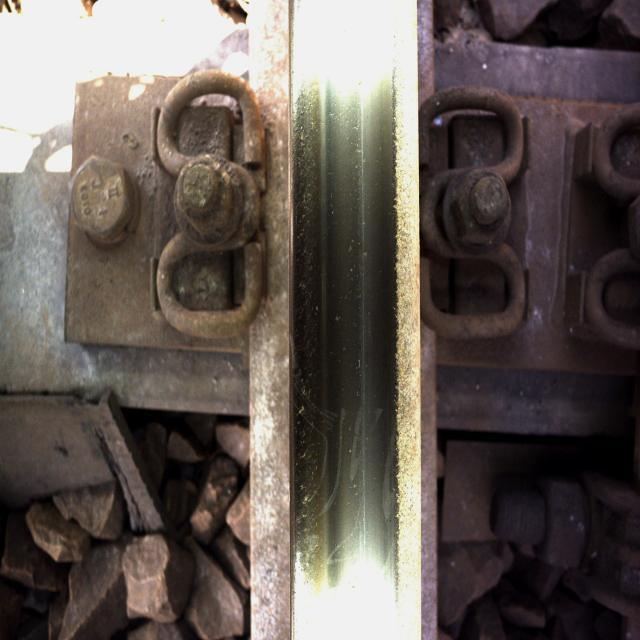normal: (290, 61, 396, 589)
